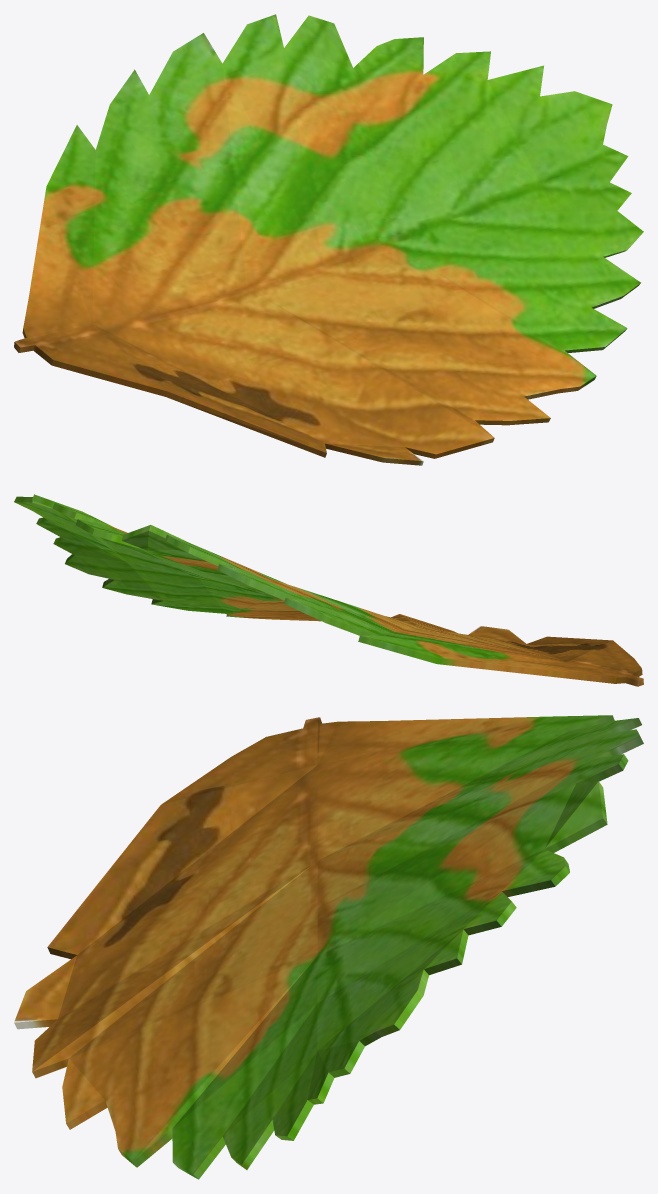
File: leaf3_s3.dae
The picture shows the model from 3 angles, top to bottom: view 1: azimuth 30°, elevation 25°; view 2: azimuth 150°, elevation 25°; view 3: azimuth 270°, elevation 25°; orthographic projection. The views are drawn at different scales.
Visible parts, largest first — view 1: Plane; view 2: Plane; view 3: Plane.
Part boxes in pixels (bbox=[...]): Plane: bbox=[14, 14, 643, 465]; Plane: bbox=[14, 494, 643, 686]; Plane: bbox=[14, 715, 643, 1179].
Bounding box in the file's own units: 0.1376 × 0.0946 × 0.055.
Materials: 1 (1 with a texture image).
